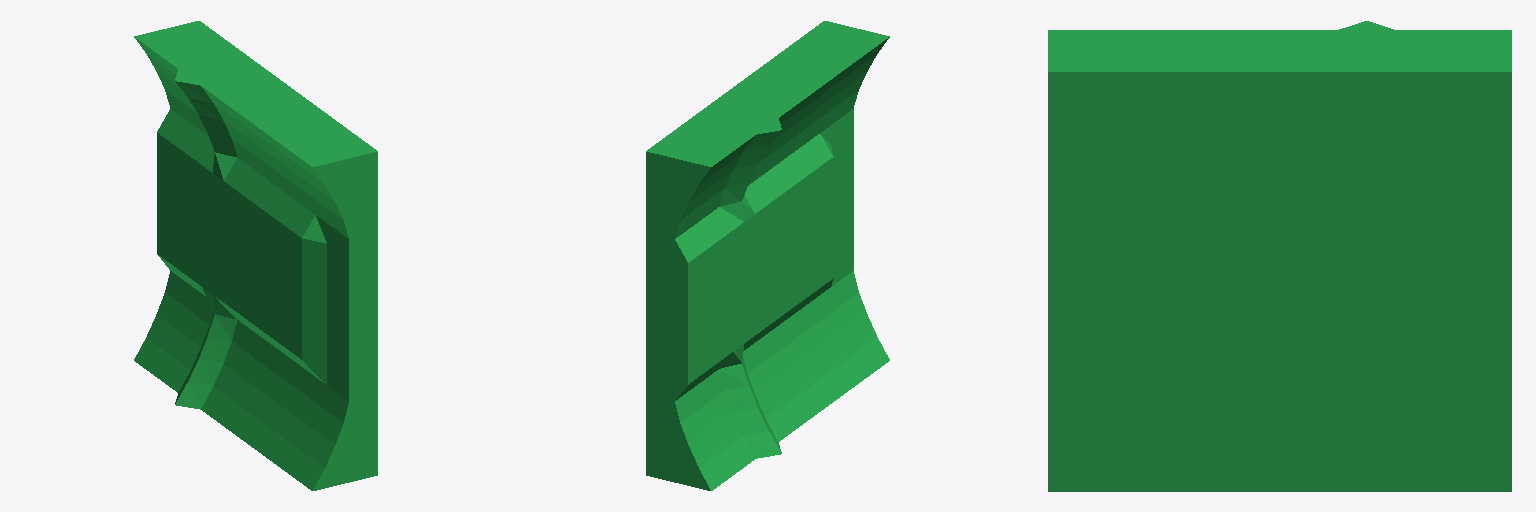
URDF robot description (design_mount):
<?xml version='1.0' encoding='utf-8'?>
<robot name="design_mount">
  <link name="base_link">
    <visual>
      <geometry>
        <mesh filename="satellite.stl" />
      </geometry>
      <material name="satellite_grey">
        <color rgba=".6 .7 .8 1" />
      </material>
    </visual>
    <collision>
      <geometry>
        <mesh filename="satellite.stl" />
      </geometry>
    </collision>
  </link>
  <link name="design_mount" />
  <joint name="satellite_mount_fixed" type="fixed">
    <parent link="base_link" />
    <child link="design_mount" />
    <origin xyz="0.26368193436445714 0.52 0.0" rpy="3.141592653589793 -1.5707963267948966 0.0" />
  </joint>
  <link name="mount_support">
    <visual>
      <geometry>
        <mesh filename="mount_support.stl" />
      </geometry>
      <material name="mount_green">
        <color rgba=".2 .7 .35 1" />
      </material>
    </visual>
    <collision>
      <geometry>
        <mesh filename="mount_support.stl" />
      </geometry>
    </collision>
  </link>
  <joint name="support_fixed" type="fixed">
    <parent link="design_mount" />
    <child link="mount_support" />
    <origin xyz="0 0 0" rpy="0 0 0" />
  </joint>
</robot>

--- What the picture shows (computed from the rendered views, not written in the file) ---
Views: 3 orthographic renders of the robot side by side, from view 1: azimuth 30°, elevation 25°; view 2: azimuth 150°, elevation 25°; view 3: azimuth 270°, elevation 25°.
Robot: design_mount — 3 links, 2 joints (2 fixed); root link base_link; default pose: every joint at zero.
Visible links, largest first — view 1: mount_support; view 2: mount_support; view 3: mount_support.
Link boxes in pixels (x1,y1,x2,y2): mount_support: (134, 21, 377, 490); mount_support: (646, 21, 889, 490); mount_support: (1048, 21, 1511, 491).
Bounding box of the posed robot: 0.0835 × 0.32 × 0.32 m (x, y, z).
1 mesh visuals loaded from 2 distinct referenced files (1 binary STL); not drawn: 1 (reference not matched to a file when rendering).
